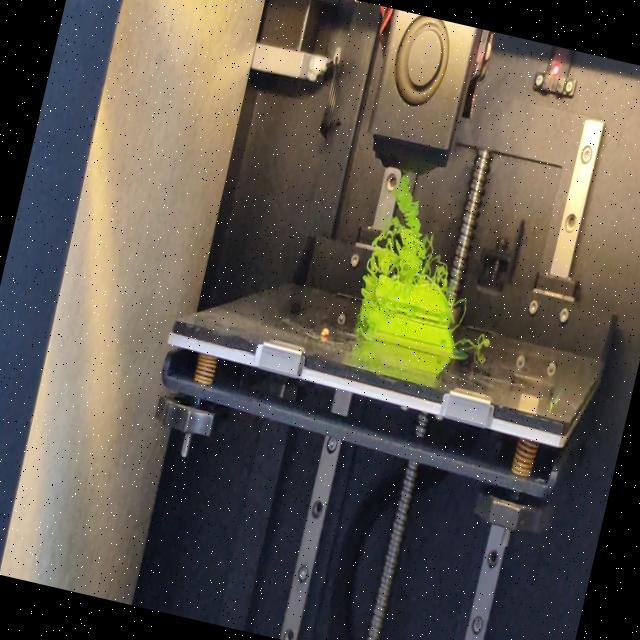spaghetti: (363, 170, 474, 296), (351, 277, 378, 334), (453, 328, 493, 358), (447, 295, 468, 333)
